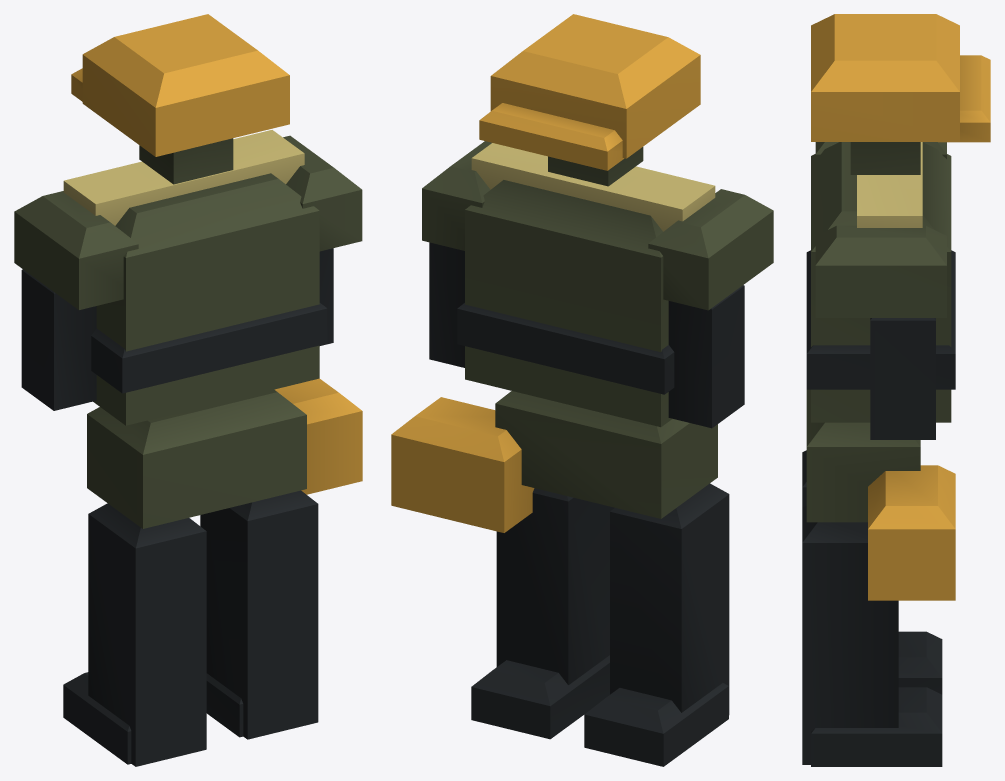
Rendered from engineer.glb.
The picture shows the model from 3 angles, left to right: view 1: azimuth 30°, elevation 25°; view 2: azimuth 150°, elevation 25°; view 3: azimuth 270°, elevation 25°; orthographic projection.
Visible parts, largest first — view 1: Body; view 2: Body; view 3: Body.
Boxes of the visible parts, <box> form: Body: <box>14,14,362,766</box>; Body: <box>391,14,773,766</box>; Body: <box>802,14,990,766</box>.
Size of the model in its own units: 0.83 by 1.72 by 0.43.
